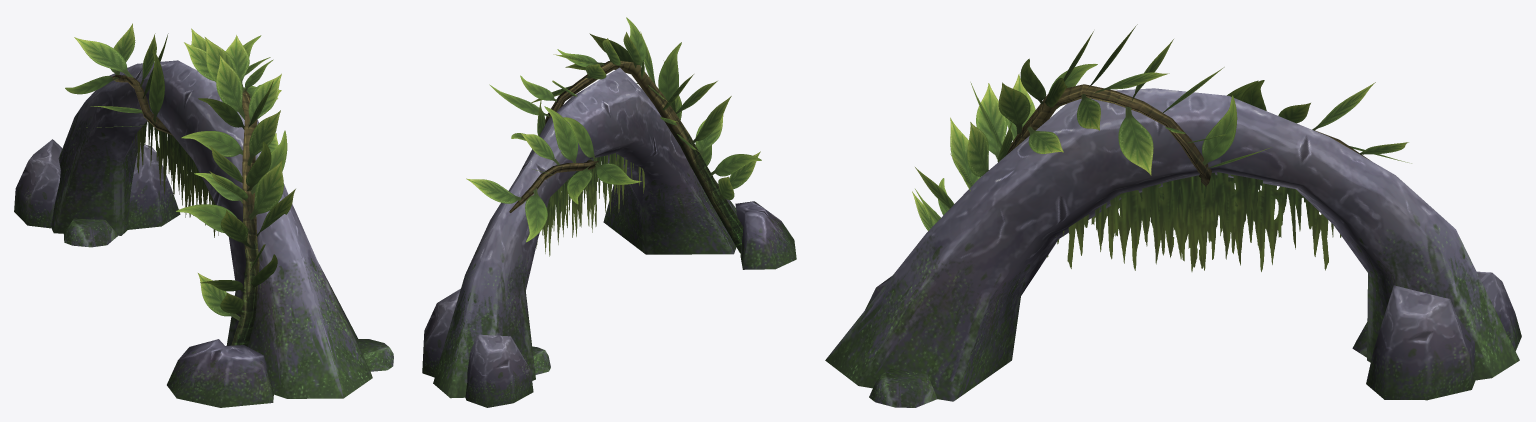
The model's file is arc.FBX.
3 renders of one model, left to right at view 1: azimuth 30°, elevation 25°; view 2: azimuth 150°, elevation 25°; view 3: azimuth 270°, elevation 25°, orthographic. The views are drawn at different scales.
Parts seen in each view (by area): view 1: arc; view 2: arc; view 3: arc.
Part boxes in pixels (x1,y1,x2,y2): arc: (14, 23, 393, 407); arc: (422, 17, 796, 407); arc: (825, 24, 1521, 407).
Size of the model in its own units: 105 by 134 by 246.
Materials: 1 (1 with a texture image).
